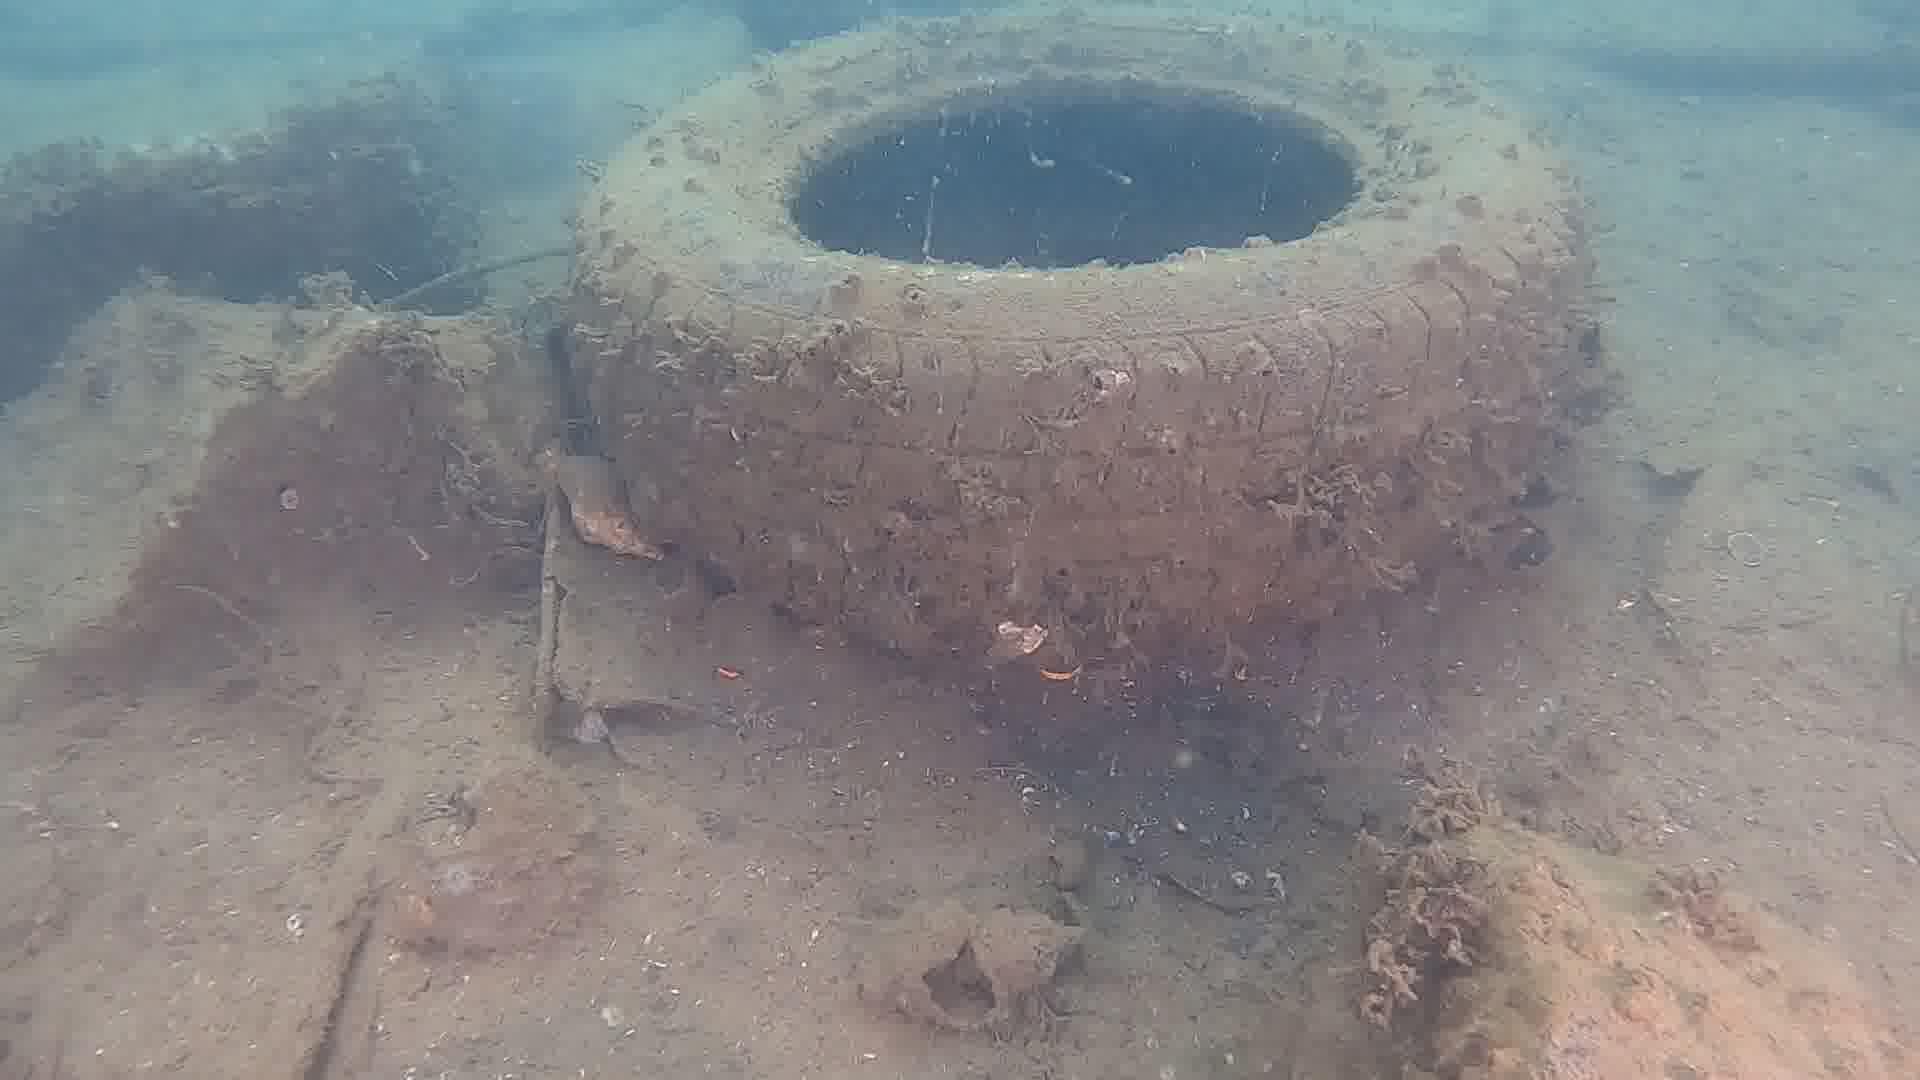tire: (564, 9, 1569, 618)
